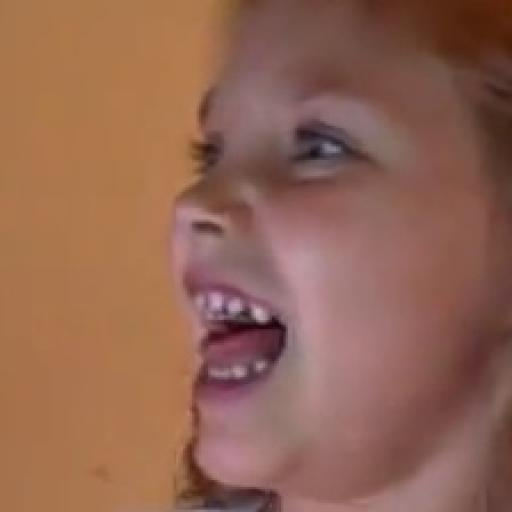Autism: (97, 10, 512, 512)
